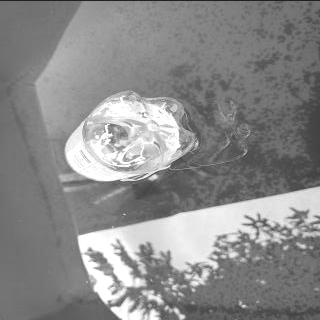bottle: (60, 88, 200, 184)
